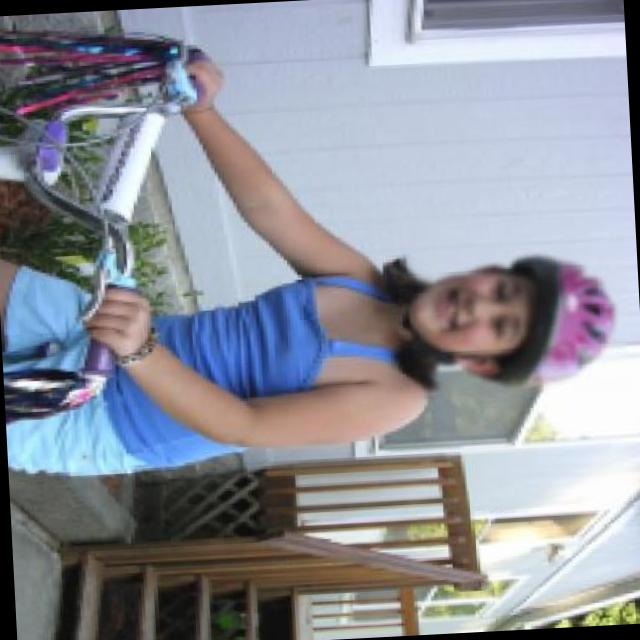With Helmet: (405, 246, 627, 400)
